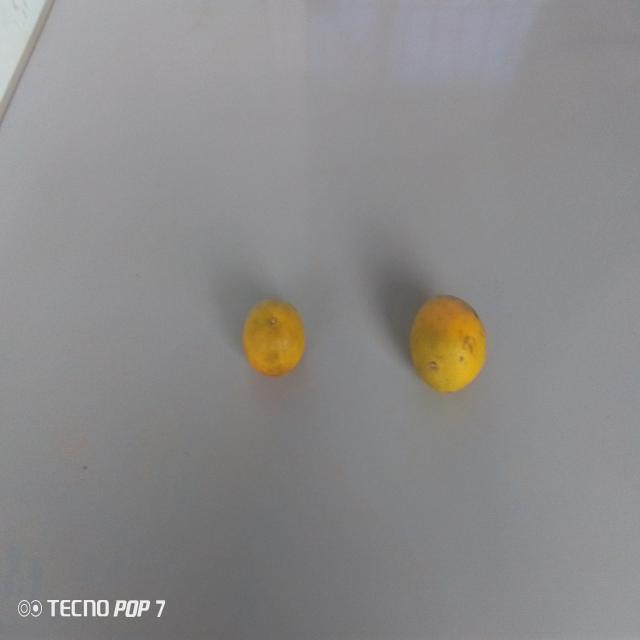Ripe orange: (405, 290, 488, 398), (240, 296, 307, 386)
